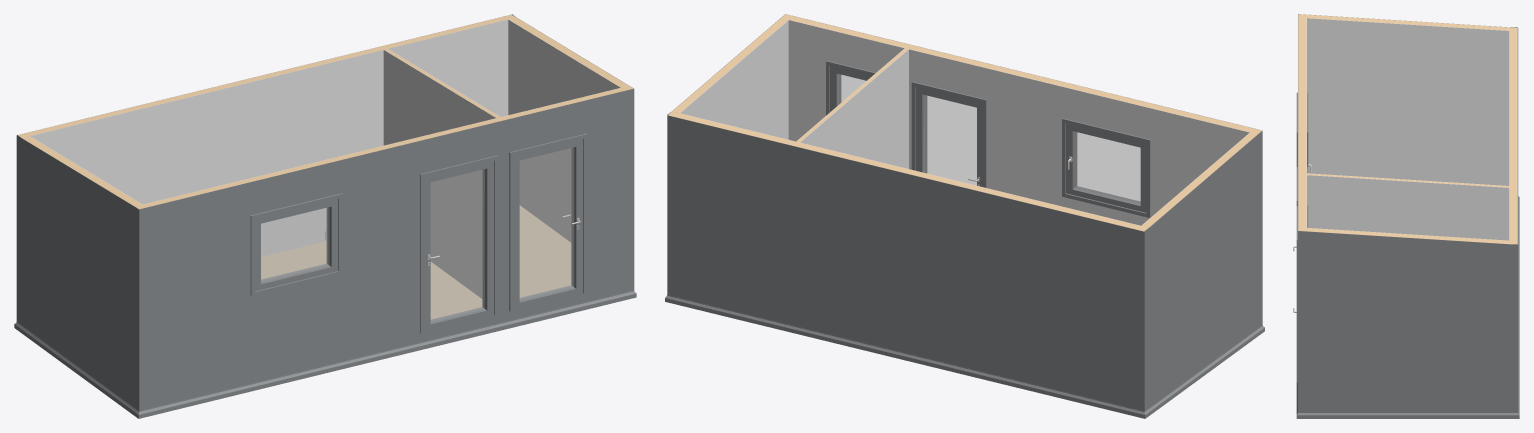
Rendered from indre.v@hotmail.fbx.
3 views of the same model, side by side, from view 1: azimuth 30°, elevation 25°; view 2: azimuth 150°, elevation 25°; view 3: azimuth 270°, elevation 25° (orthographic). The views are drawn at different scales.
Visible parts, largest first — view 1: IfcWall/Part:2548156, IfcWall/Part:2397154, IfcWall/Part:2548152, IfcDoor/Durys išorinės:1000x2100x120 (kairinės):2439432, IfcDoor/Durys išorinės:1000x2100x120 (dešininės):2546166, IfcWall/Part:2319968, IfcWall/Part:2397151, IfcWindow/Langai (Akrusta):1200 x 1000 x 120:2409843, IfcSlab/Part:2319985, IfcWall/Part:2548154, IfcWall/Part:2397156, IfcWall/Part:2548157 (+3 smaller); view 2: IfcWall/Part:2397155, IfcWall/Part:2548155, IfcWall/Part:2548152, IfcWindow/Langai (Akrusta):1200 x 1000 x 120:2409843, IfcDoor/Durys išorinės:1000x2100x120 (dešininės):2546166, IfcWall/Part:2397151, IfcWall/Part:2319968, IfcBuildingElementProxy/2532382, IfcWall/Part:2397156, IfcWall/Part:2548157, IfcDoor/Durys išorinės:1000x2100x120 (kairinės):2439432, IfcWall/Part:2548150 (+2 smaller); view 3: IfcWall/Part:2397152, IfcWall/Part:2548151, IfcWall/Part:2319967, IfcWall/Part:2397156, IfcWall/Part:2548157, IfcWall/Part:2532388, IfcWall/Part:2397153, IfcWall/Part:2548153, IfcWall/Part:2397155, IfcWall/Part:2319969, IfcBuildingElementProxy/2532382, IfcDoor/Durys išorinės:1000x2100x120 (kairinės):2439432 (+1 smaller).
Part boxes in pixels (x1=…): IfcWall/Part:2548156: x1=139, y1=88, x2=633, y2=410; IfcWall/Part:2397154: x1=30, y1=19, x2=508, y2=256; IfcWall/Part:2548152: x1=17, y1=135, x2=138, y2=410; IfcDoor/Durys išorinės:1000x2100x120 (kairinės):2439432: x1=509, y1=133, x2=587, y2=311; IfcDoor/Durys išorinės:1000x2100x120 (dešininės):2546166: x1=420, y1=155, x2=498, y2=333; IfcWall/Part:2319968: x1=383, y1=50, x2=495, y2=298; IfcWall/Part:2397151: x1=508, y1=19, x2=620, y2=241; IfcWindow/Langai (Akrusta):1200 x 1000 x 120:2409843: x1=250, y1=193, x2=342, y2=296; IfcSlab/Part:2319985: x1=261, y1=205, x2=571, y2=319; IfcWall/Part:2548154: x1=138, y1=290, x2=636, y2=418; IfcWall/Part:2397156: x1=18, y1=14, x2=515, y2=137; IfcWall/Part:2548157: x1=135, y1=88, x2=625, y2=209; IfcWall/Part:2397155: x1=667, y1=115, x2=1144, y2=411; IfcWall/Part:2548155: x1=788, y1=20, x2=1249, y2=225; IfcWall/Part:2548152: x1=1144, y1=131, x2=1262, y2=410; IfcWindow/Langai (Akrusta):1200 x 1000 x 120:2409843: x1=1062, y1=118, x2=1150, y2=217; IfcDoor/Durys išorinės:1000x2100x120 (dešininės):2546166: x1=911, y1=81, x2=986, y2=187; IfcWall/Part:2397151: x1=680, y1=20, x2=788, y2=139; IfcWall/Part:2319968: x1=800, y1=49, x2=908, y2=168; IfcBuildingElementProxy/2532382: x1=665, y1=295, x2=1145, y2=418; IfcWall/Part:2397156: x1=668, y1=111, x2=1148, y2=231; IfcWall/Part:2548157: x1=789, y1=16, x2=1262, y2=134; IfcDoor/Durys išorinės:1000x2100x120 (kairinės):2439432: x1=826, y1=60, x2=875, y2=115; IfcWall/Part:2548150: x1=1144, y1=325, x2=1264, y2=418; IfcWall/Part:2397152: x1=1298, y1=231, x2=1517, y2=412; IfcWall/Part:2548151: x1=1307, y1=18, x2=1509, y2=185; IfcWall/Part:2319967: x1=1307, y1=175, x2=1509, y2=240; IfcWall/Part:2397156: x1=1509, y1=27, x2=1517, y2=244; IfcWall/Part:2548157: x1=1298, y1=14, x2=1306, y2=227; IfcWall/Part:2532388: x1=1296, y1=412, x2=1519, y2=418; IfcWall/Part:2397153: x1=1298, y1=227, x2=1509, y2=243; IfcWall/Part:2548153: x1=1306, y1=14, x2=1509, y2=30; IfcWall/Part:2397155: x1=1517, y1=28, x2=1518, y2=411; IfcWall/Part:2319969: x1=1306, y1=173, x2=1509, y2=187; IfcBuildingElementProxy/2532382: x1=1518, y1=196, x2=1519, y2=414; IfcDoor/Durys išorinės:1000x2100x120 (kairinės):2439432: x1=1296, y1=206, x2=1308, y2=382.
Size of the model in its own units: 704 by 282 by 309.
